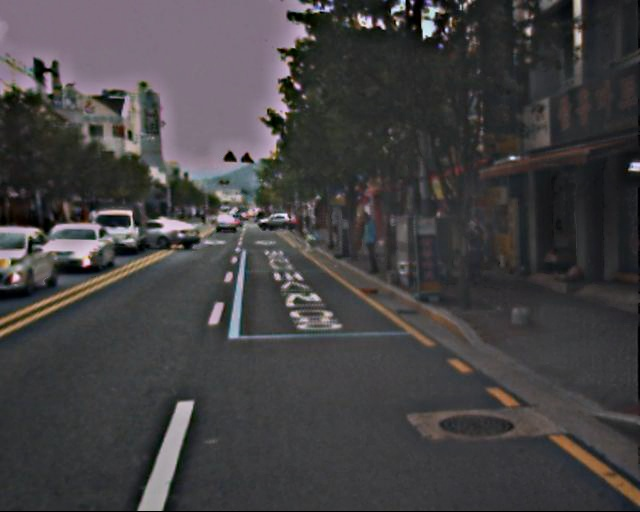person: (458, 216, 486, 284), (355, 214, 379, 272)
